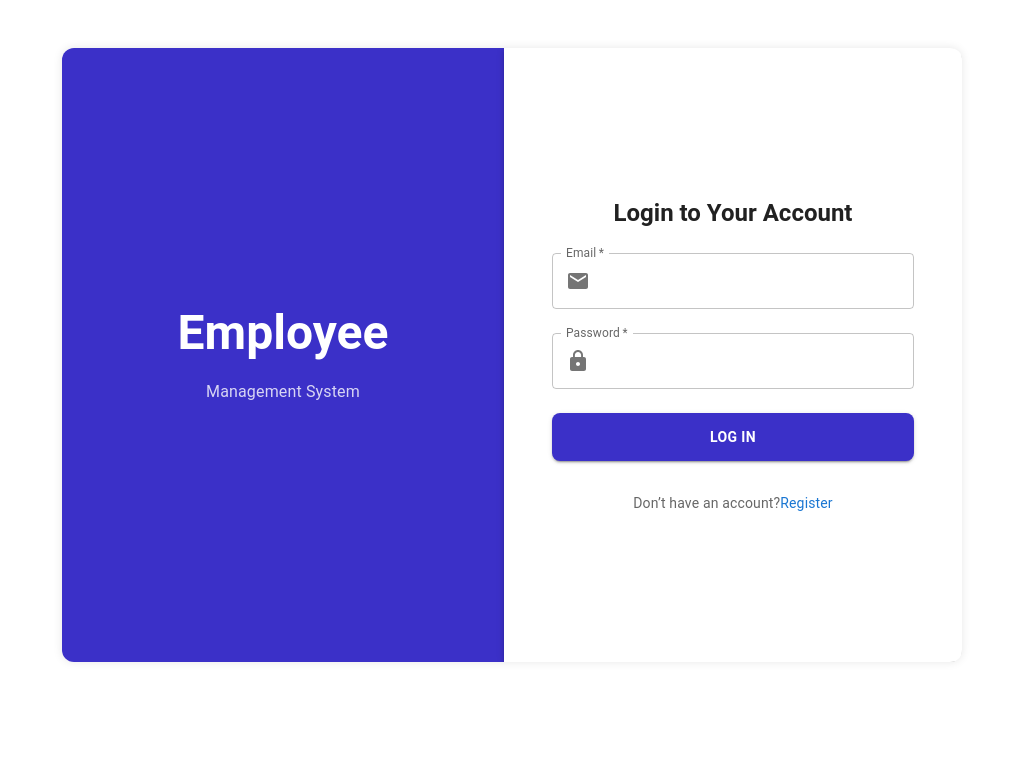
Test: Login component › shows toast error message on login failure
Type "test@gmail.com" into the field labelled "Email *". click: {"x": 756, "y": 281}
box: [598, 253, 914, 309]
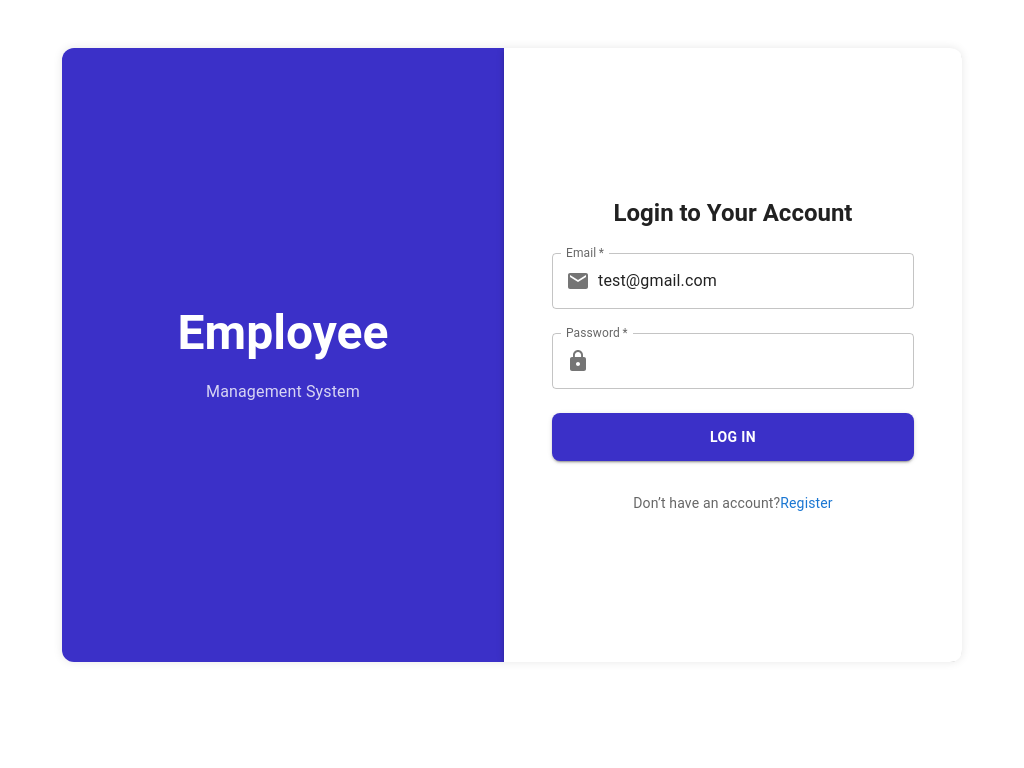
Type "wrongPass" into the password field labelled "Password *". click: {"x": 756, "y": 361}
box: [598, 333, 914, 389]
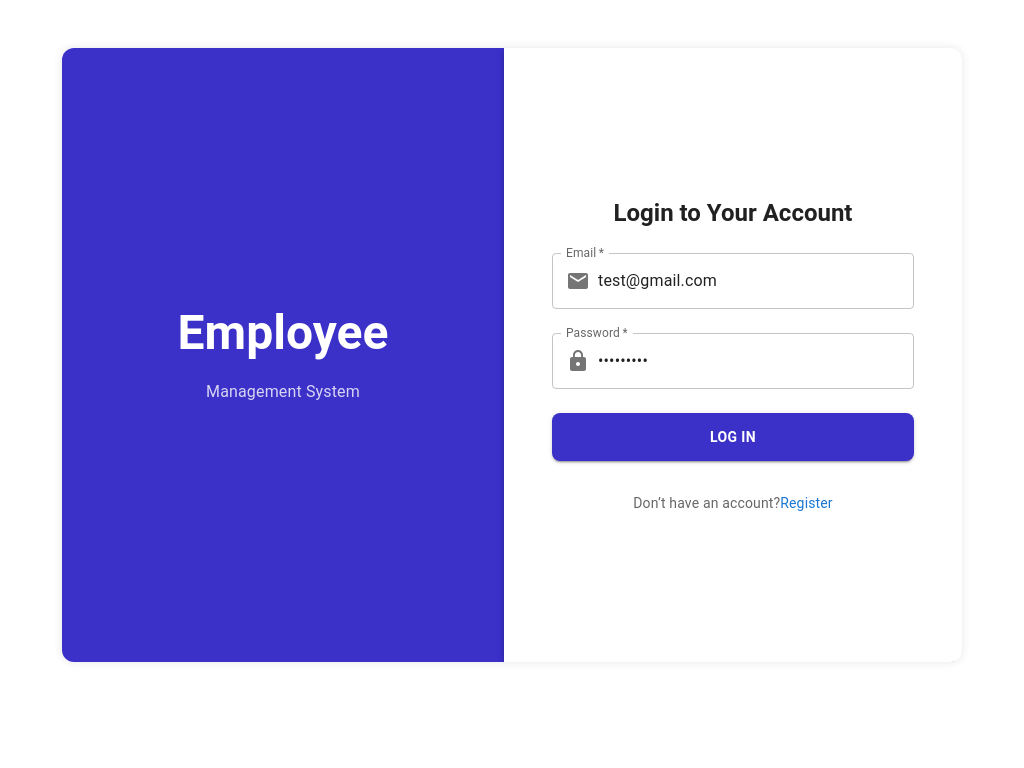
Click the button "Log In". click: {"x": 733, "y": 437}
box: [552, 413, 914, 461]
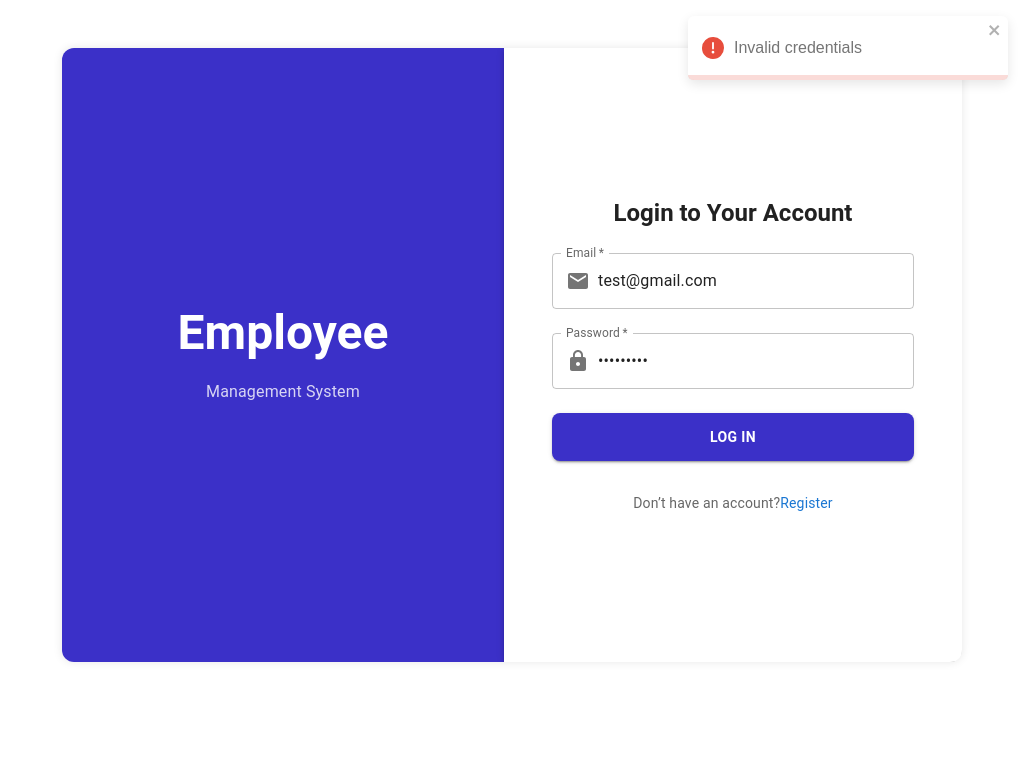
Now the text "Invalid credentials" is shown, box [688, 16, 1008, 80]
